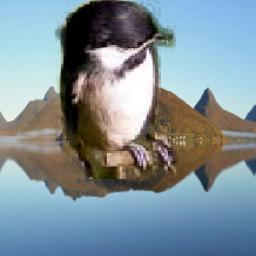Swallow: (56, 0, 180, 180)
